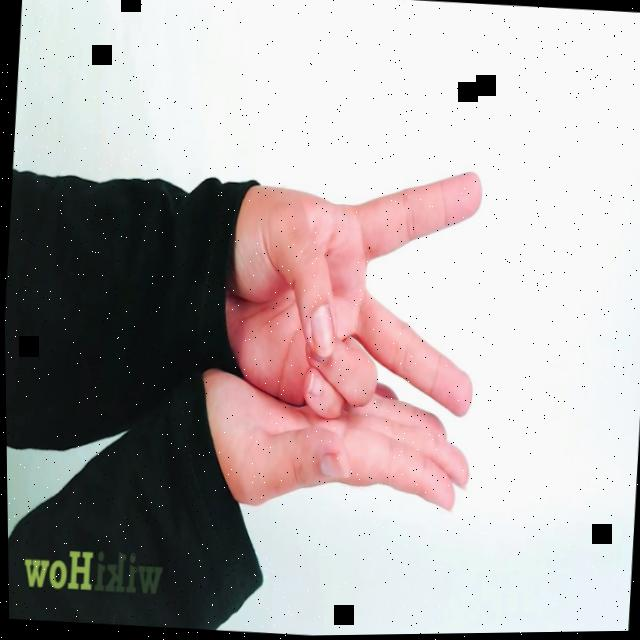Scissors: (213, 155, 488, 434)
